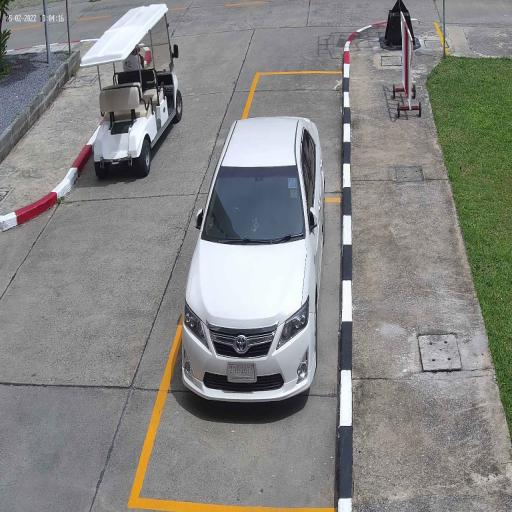car: (181, 114, 326, 402), (81, 4, 184, 178)
